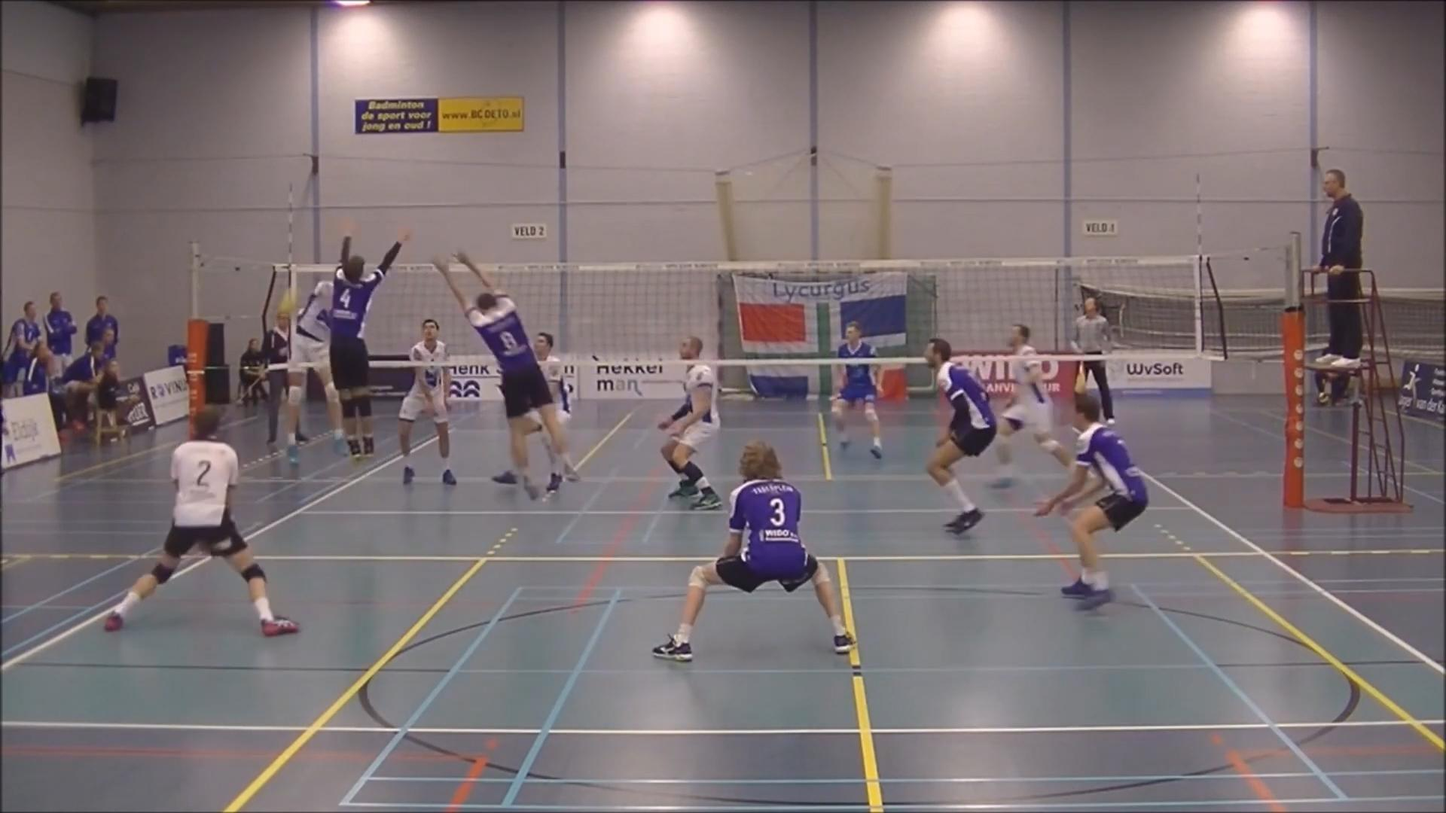Attack: (279, 236, 350, 459)
Block: (428, 243, 565, 502), (318, 228, 411, 467)
Player: (652, 442, 855, 662), (105, 406, 298, 636), (1036, 394, 1147, 609), (925, 339, 996, 534), (992, 324, 1072, 487), (398, 318, 456, 485), (658, 363, 721, 510), (831, 322, 880, 458), (533, 332, 571, 425)
ball: (272, 287, 300, 322)
